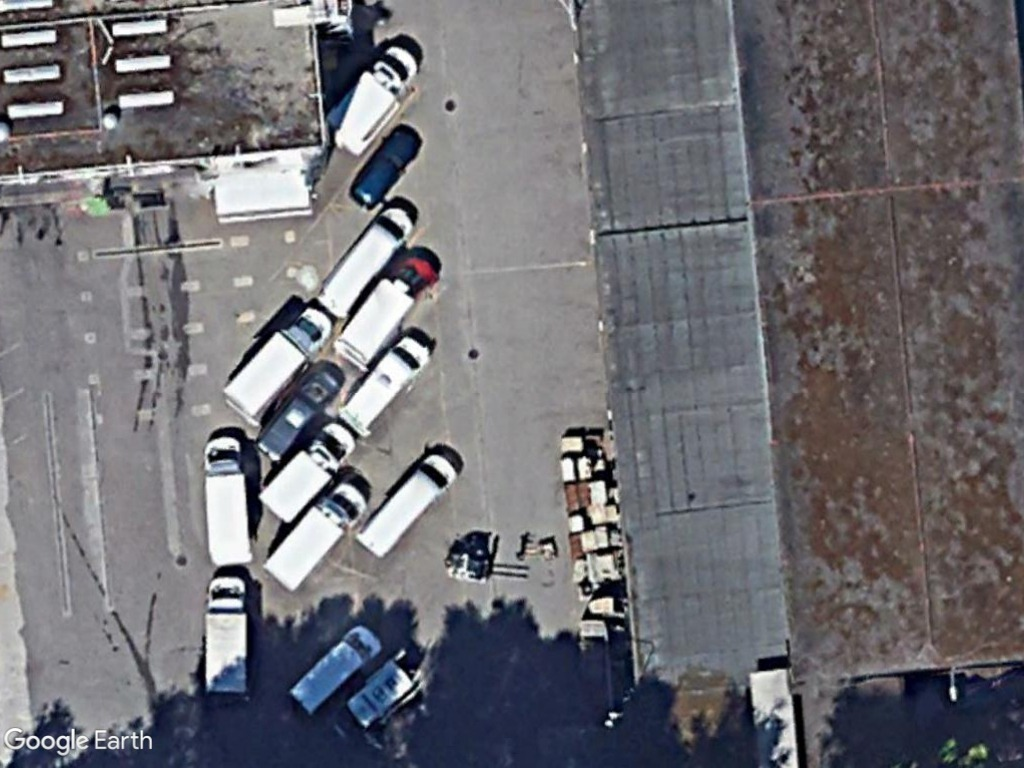truck: (215, 305, 331, 425), (333, 247, 443, 371), (258, 478, 367, 590), (253, 418, 362, 527), (326, 41, 423, 153), (200, 431, 257, 569), (202, 572, 250, 708)
van: (316, 198, 418, 321), (354, 449, 462, 559), (340, 331, 429, 441), (284, 625, 382, 719)
